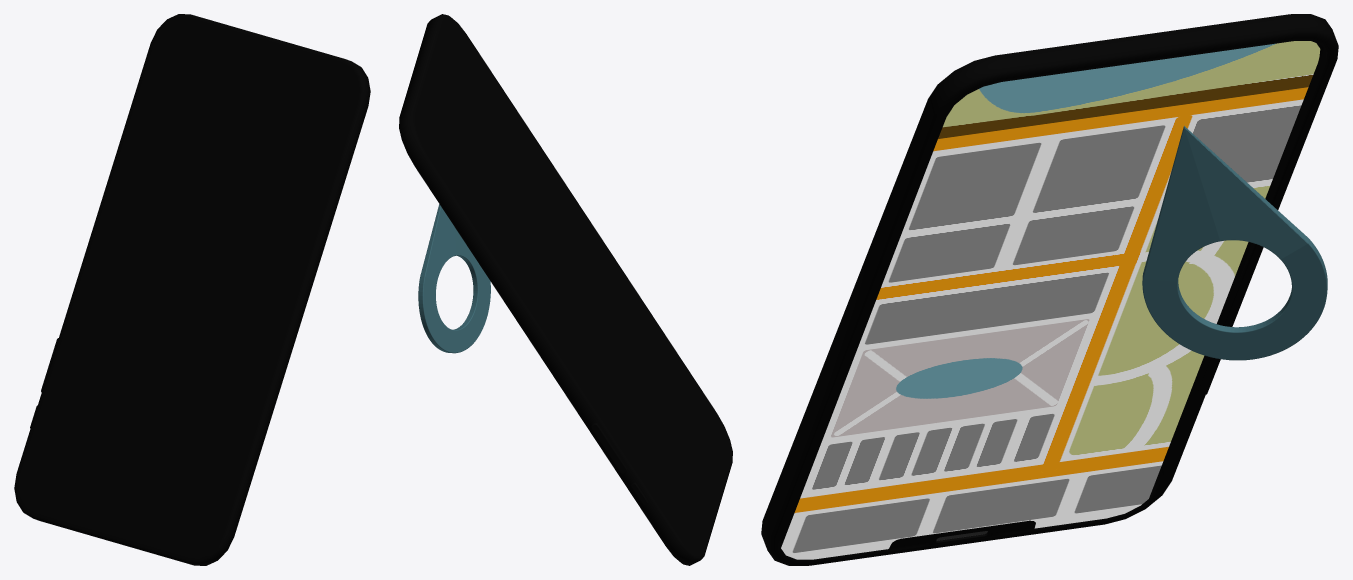
Rendered from marker_anim_web.glb.
The picture shows the model from 3 angles, left to right: view 1: azimuth 30°, elevation 25°; view 2: azimuth 150°, elevation 25°; view 3: azimuth 270°, elevation 25°; orthographic projection. The views are drawn at different scales.
Parts seen in each view (by area): view 1: SmartPhone_Body; view 2: SmartPhone_Body, location_icon, SmartPhone_Switch.002; view 3: SmartPhone_Screen, SmartPhone_Body, location_icon.
Part boxes in pixels (box(x1,y1,x2,y2)): SmartPhone_Body: box(14, 14, 370, 565); SmartPhone_Body: box(399, 14, 732, 565); location_icon: box(418, 204, 490, 353); SmartPhone_Switch.002: box(591, 423, 627, 473); SmartPhone_Screen: box(781, 41, 1320, 559); SmartPhone_Body: box(761, 14, 1338, 565); location_icon: box(1142, 126, 1327, 360).
Bounding box in the file's own units: 3.32 × 4.49 × 3.43.
4 materials, 1 textured.
